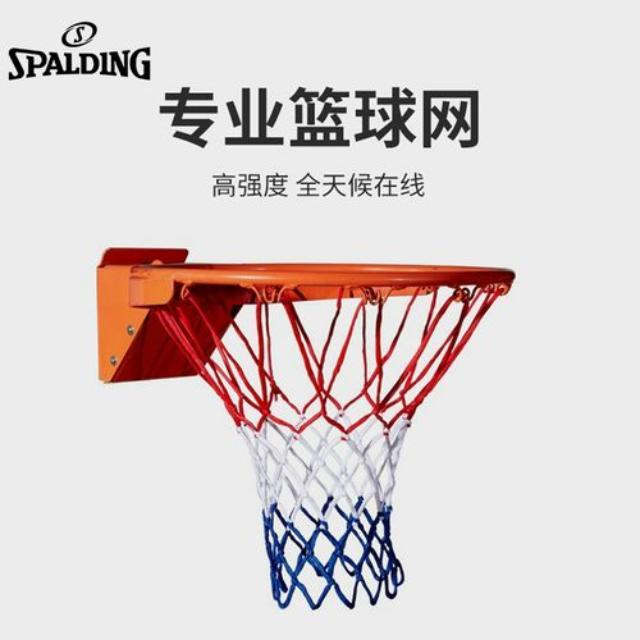rim: (147, 263, 518, 611)
